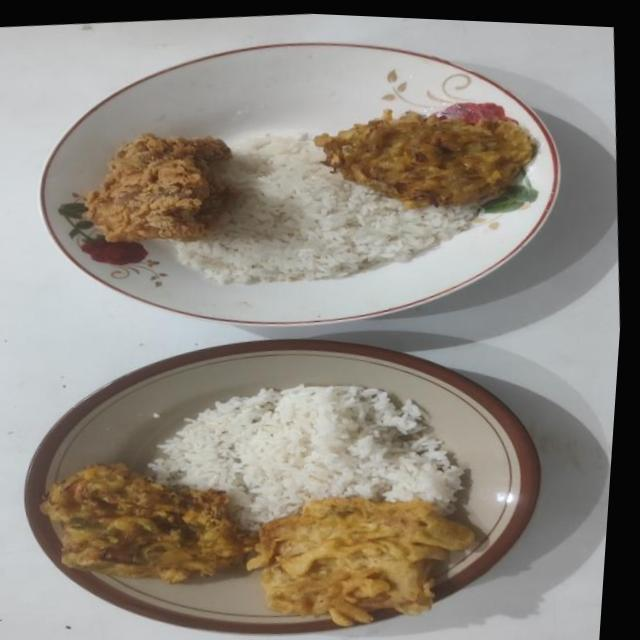nasi_putih: (148, 384, 464, 530), (172, 134, 476, 284)
